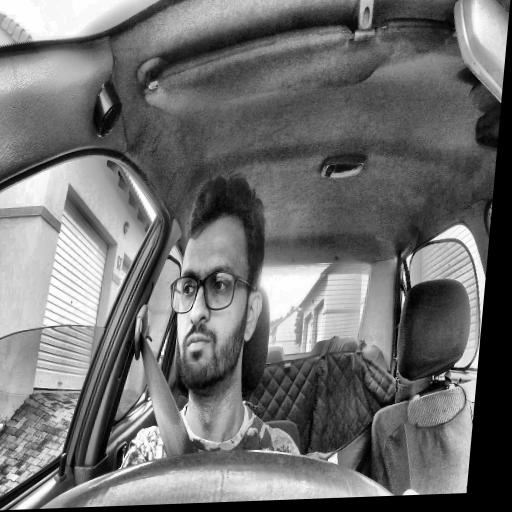awake: (162, 171, 275, 389)
